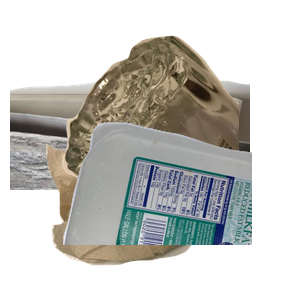glass: (60, 33, 300, 213)
paper: (10, 77, 250, 257)
plastic: (60, 120, 300, 300)
trash: (44, 136, 277, 300)
